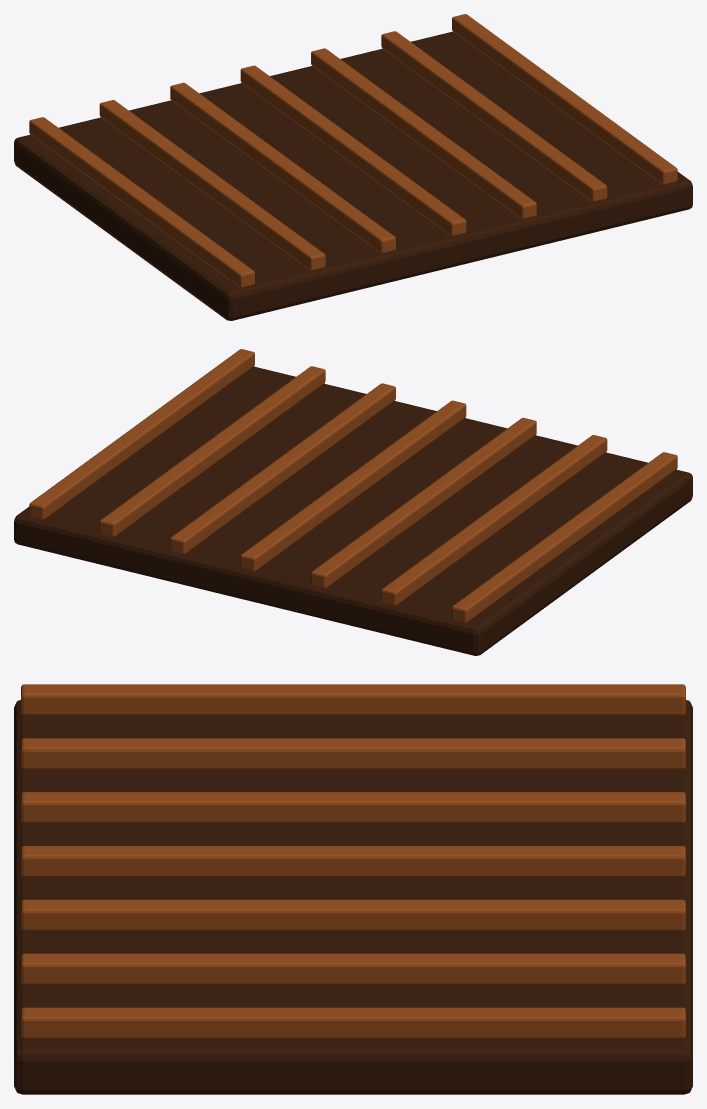
File: siege_tower_traversable_bridge.glb
3 renders of one model, top to bottom at view 1: azimuth 30°, elevation 25°; view 2: azimuth 150°, elevation 25°; view 3: azimuth 270°, elevation 25°, orthographic. The views are drawn at different scales.
Parts seen in each view (by area): view 1: SiegeTowerAssaultBridge, SiegeTowerBridgeSlat.005, SiegeTowerBridgeSlat.001, SiegeTowerBridgeSlat.003, SiegeTowerBridgeSlat.002, SiegeTowerBridgeSlat.004, SiegeTowerBridgeSlat, SiegeTowerBridgeSlat.006; view 2: SiegeTowerAssaultBridge, SiegeTowerBridgeSlat.005, SiegeTowerBridgeSlat.001, SiegeTowerBridgeSlat.003, SiegeTowerBridgeSlat.002, SiegeTowerBridgeSlat.004, SiegeTowerBridgeSlat, SiegeTowerBridgeSlat.006; view 3: SiegeTowerAssaultBridge, SiegeTowerBridgeSlat.004, SiegeTowerBridgeSlat.005, SiegeTowerBridgeSlat.006, SiegeTowerBridgeSlat, SiegeTowerBridgeSlat.001, SiegeTowerBridgeSlat.002, SiegeTowerBridgeSlat.003.
Part boxes in pixels (bbox=[...]): SiegeTowerAssaultBridge: bbox=[14, 31, 692, 320]; SiegeTowerBridgeSlat.005: bbox=[381, 31, 607, 202]; SiegeTowerBridgeSlat.001: bbox=[99, 100, 325, 270]; SiegeTowerBridgeSlat.003: bbox=[240, 65, 466, 236]; SiegeTowerBridgeSlat.002: bbox=[170, 82, 395, 253]; SiegeTowerBridgeSlat.004: bbox=[311, 48, 536, 219]; SiegeTowerBridgeSlat: bbox=[29, 117, 254, 288]; SiegeTowerBridgeSlat.006: bbox=[452, 14, 677, 184]; SiegeTowerAssaultBridge: bbox=[14, 366, 692, 655]; SiegeTowerBridgeSlat.005: bbox=[99, 366, 325, 537]; SiegeTowerBridgeSlat.001: bbox=[381, 435, 607, 605]; SiegeTowerBridgeSlat.003: bbox=[240, 400, 466, 571]; SiegeTowerBridgeSlat.002: bbox=[311, 417, 536, 588]; SiegeTowerBridgeSlat.004: bbox=[170, 383, 395, 554]; SiegeTowerBridgeSlat: bbox=[452, 452, 677, 623]; SiegeTowerBridgeSlat.006: bbox=[29, 349, 254, 519]; SiegeTowerAssaultBridge: bbox=[14, 700, 692, 1094]; SiegeTowerBridgeSlat.004: bbox=[21, 899, 685, 931]; SiegeTowerBridgeSlat.005: bbox=[21, 953, 685, 985]; SiegeTowerBridgeSlat.006: bbox=[21, 1007, 685, 1039]; SiegeTowerBridgeSlat: bbox=[21, 684, 685, 715]; SiegeTowerBridgeSlat.001: bbox=[21, 738, 685, 769]; SiegeTowerBridgeSlat.002: bbox=[21, 792, 685, 823]; SiegeTowerBridgeSlat.003: bbox=[21, 846, 685, 877].
Size of the model in its own units: 3.05 by 0.275 by 2.45.
